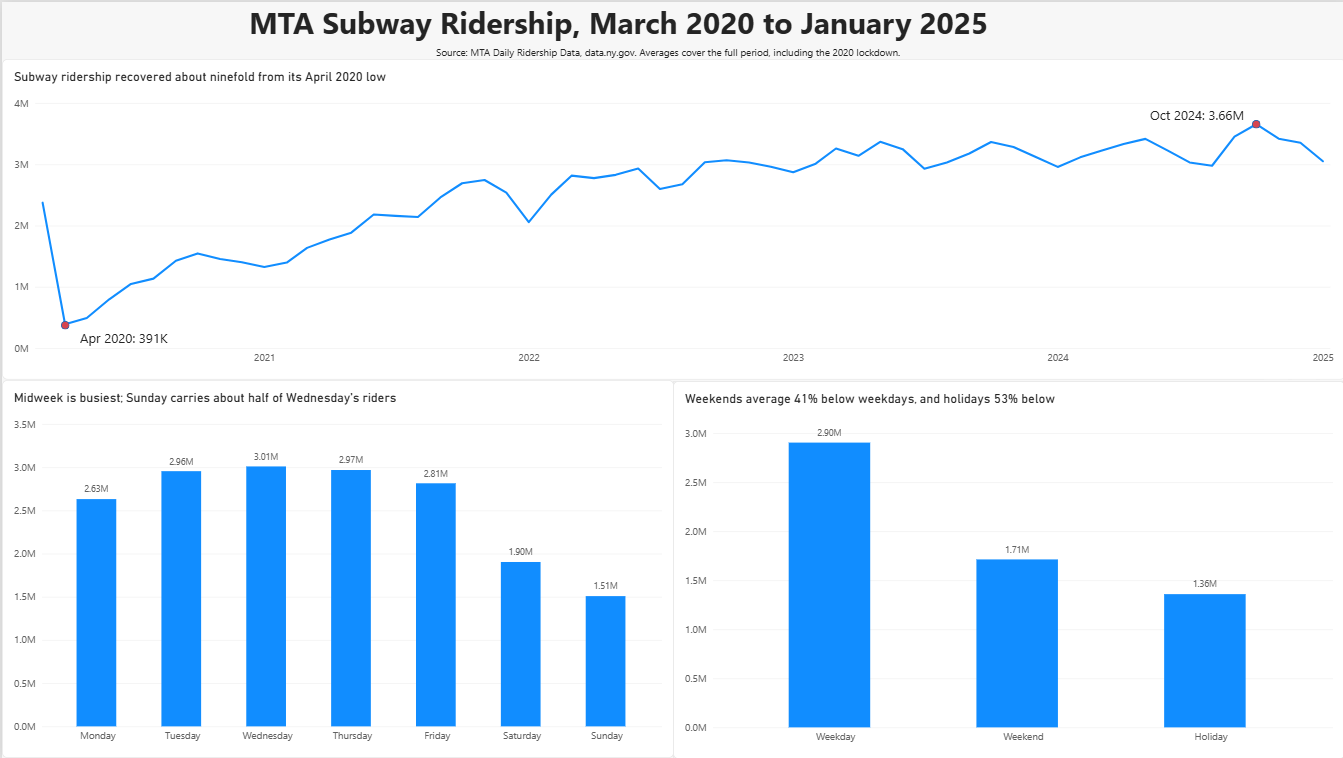

The dashboard page shown, as its layout file describes it:
{"tool":"powerbi","page":{"name":"Page 1","canvas":[1920,1080],"ordinal":0},"visuals":[{"type":"clusteredColumnChart","title":"Midweek is busiest; Sunday carries about half of Wednesday''s riders","fields":{"Category":["ridership_clean.Day Name"],"Y":["Avg(ridership_clean.subway_ridership)"]},"box":[0,539.8,960,539.8],"z":0},{"type":"clusteredColumnChart","title":"Weekends average 41% below weekdays, and holidays 53% below","fields":{"Category":["ridership_clean.day_type"],"Y":["Avg(ridership_clean.subway_ridership)"]},"box":[959.3,541.1,960,539.8],"z":1000},{"type":"lineChart","title":"Subway ridership recovered about ninefold from its April 2020 low","fields":{"Category":["ridership_clean.month_start"],"Y":["Avg(ridership_clean.subway_ridership)"]},"box":[0,81.7,1920,458.1],"z":2000},{"type":"textbox","box":[352.2,0,1212.4,68.6],"z":3000},{"type":"textbox","box":[620.3,61.7,675.5,29.2],"z":4000},{"type":"textbox","box":[110.8,467.7,133.8,26.2],"z":5000},{"type":"shape","box":[84.7,455.4,12.2,12.2],"z":6000},{"type":"shape","box":[1785.8,168.8,12.2,12.2],"z":6001},{"type":"textbox","box":[1640.3,148.3,145.3,26.3],"z":6002}]}

Visuals, with their boxes in screenshot pixels (x1, y1, x2, y2), scaled from the page's 1920x1080 canvas onto the 1343x758 screenshot:
"Midweek is busiest; Sunday carries about half of Wednesday''s riders" clusteredColumnChart: {"x1": 0, "y1": 379, "x2": 672, "y2": 757}
"Weekends average 41% below weekdays, and holidays 53% below" clusteredColumnChart: {"x1": 671, "y1": 380, "x2": 1342, "y2": 757}
"Subway ridership recovered about ninefold from its April 2020 low" lineChart: {"x1": 0, "y1": 57, "x2": 1342, "y2": 379}
textbox: {"x1": 246, "y1": 0, "x2": 1094, "y2": 48}
textbox: {"x1": 434, "y1": 43, "x2": 906, "y2": 64}
textbox: {"x1": 78, "y1": 328, "x2": 171, "y2": 347}
shape: {"x1": 59, "y1": 320, "x2": 68, "y2": 328}
shape: {"x1": 1249, "y1": 118, "x2": 1258, "y2": 127}
textbox: {"x1": 1147, "y1": 104, "x2": 1249, "y2": 123}
